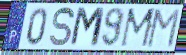0: (25, 6, 49, 48)
9: (101, 6, 126, 49)
M: (118, 7, 158, 50), (68, 6, 107, 49), (145, 8, 182, 50)
S: (49, 6, 76, 48)
